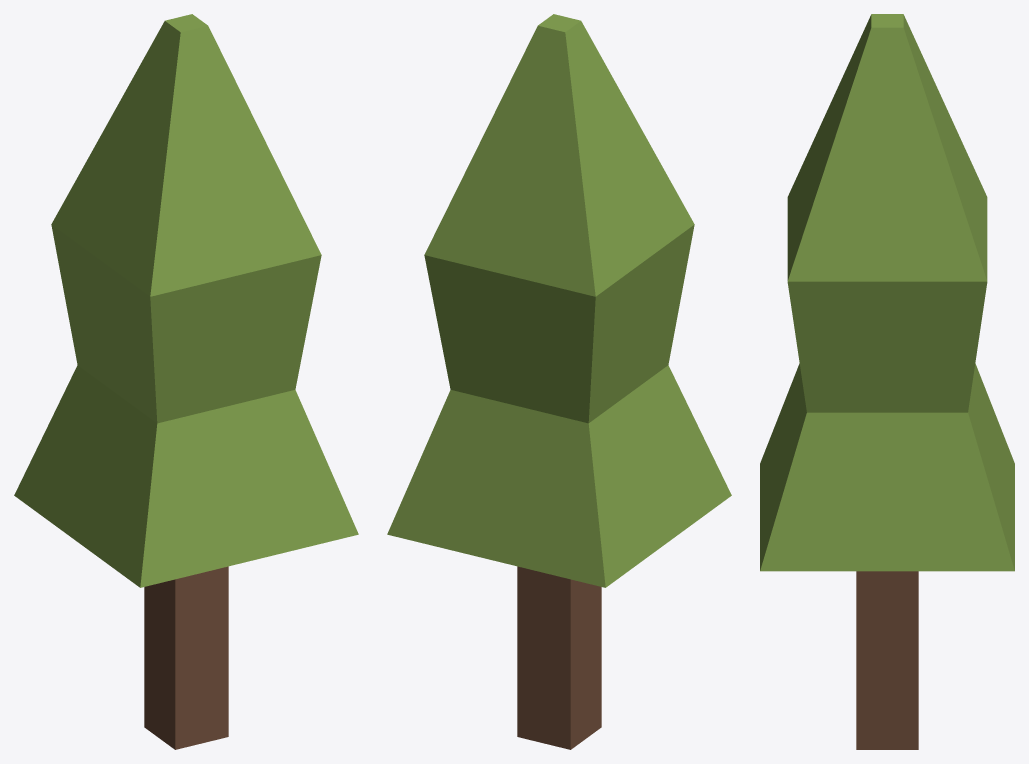
Rendered from voxel_tree_8.fbx.
3 views of the same model, side by side, from view 1: azimuth 30°, elevation 25°; view 2: azimuth 150°, elevation 25°; view 3: azimuth 270°, elevation 25° (orthographic).
Visible parts, largest first — view 1: voxel_tree_8; view 2: voxel_tree_8; view 3: voxel_tree_8.
Part boxes in pixels (<box>): voxel_tree_8: <box>14,14,358,749</box>; voxel_tree_8: <box>387,14,731,749</box>; voxel_tree_8: <box>760,14,1014,749</box>.
Bounding box in the file's own units: 184 × 571 × 184.
